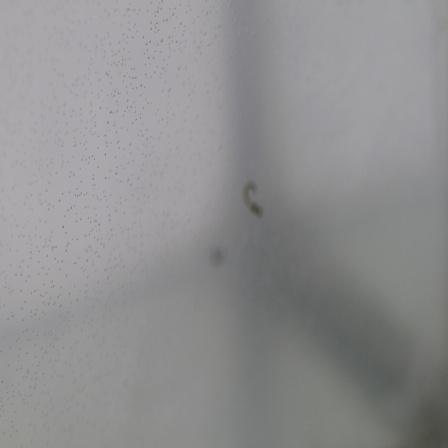Jentik-Nyamuk: (238, 176, 267, 221)
